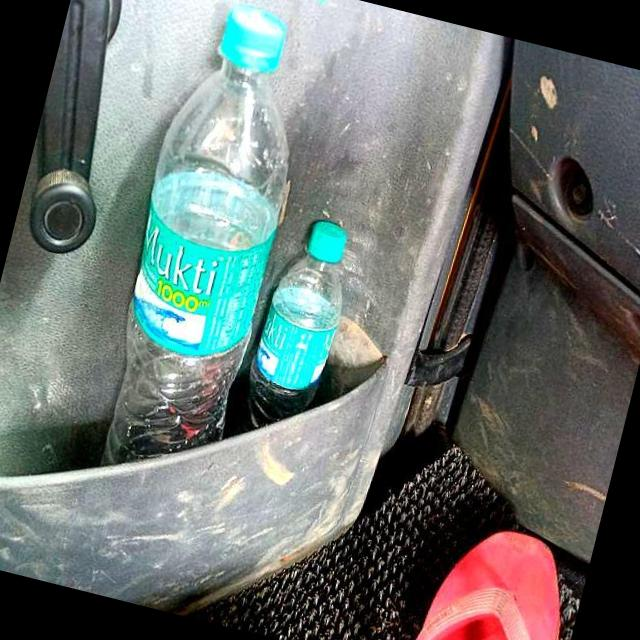Non-biodegradable: (88, 1, 324, 476), (242, 216, 360, 440)
